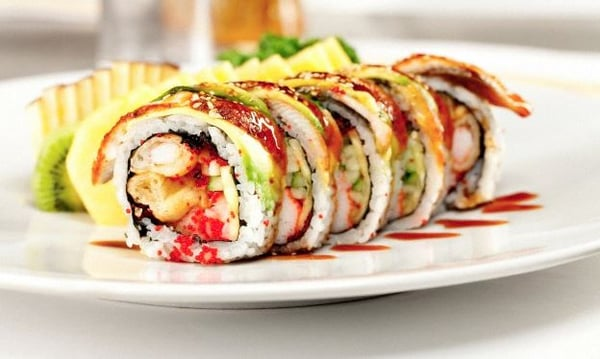soup: (68, 81, 342, 266)
